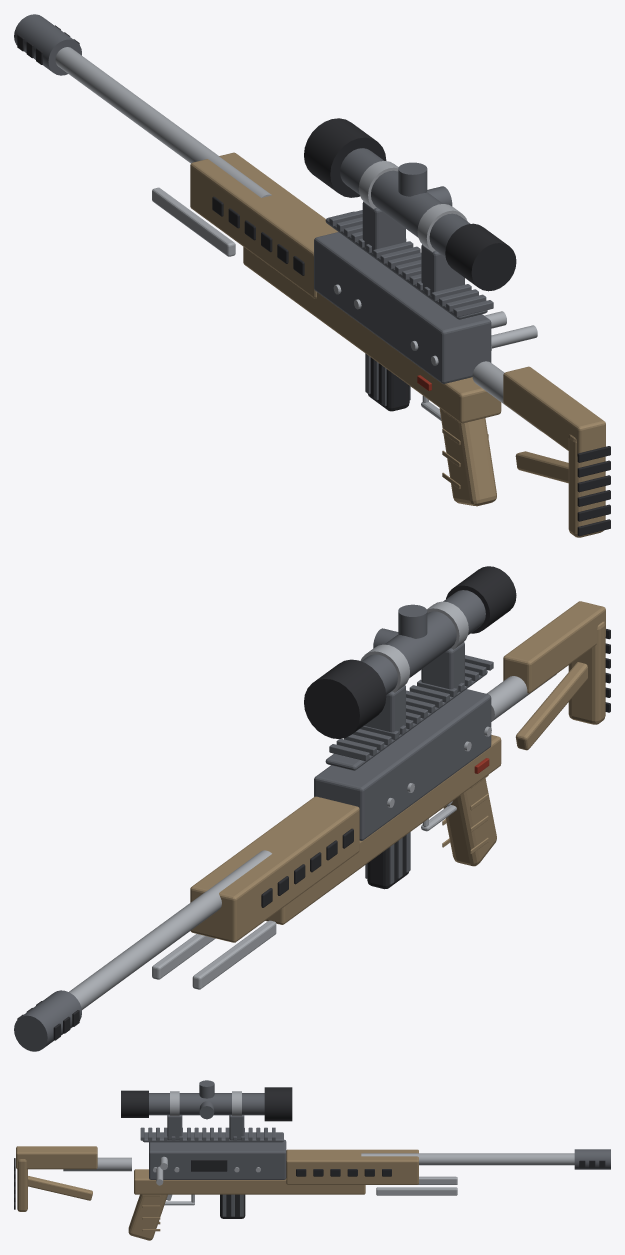
3 views of the same model, one above another, from view 1: azimuth 30°, elevation 25°; view 2: azimuth 150°, elevation 25°; view 3: azimuth 270°, elevation 25° (orthographic). The views are drawn at different scales.
Parts seen in each view (by area): view 1: Precision receiver, Long forend, Chassis, Stock spine.002, Precision barrel, Scope tube, PistolGrip.002, Scope ocular, Scope objective, Muzzle brake, Stock butt.002, Folded bipod (+8 smaller); view 2: Precision receiver, Long forend, Chassis, Stock spine.002, Scope objective, Precision barrel, Scope tube, PistolGrip.002, Muzzle brake, Stock butt.002, Scope ocular, Stock lower brace.002 (+10 smaller); view 3: Precision receiver, Long forend, Chassis, Precision barrel, Scope tube, Stock spine.002, PistolGrip.002, Scope objective, Picatinny base.002, Scope ocular, Folded bipod.001, Stock lower brace.002 (+11 smaller).
Part boxes in pixels (bbox=[...]): Precision receiver: bbox=[314, 232, 491, 383]; Long forend: bbox=[190, 152, 337, 298]; Chassis: bbox=[243, 247, 501, 423]; Stock spine.002: bbox=[503, 366, 605, 456]; Precision barrel: bbox=[55, 47, 271, 197]; Scope tube: bbox=[340, 148, 470, 257]; PistolGrip.002: bbox=[439, 408, 496, 506]; Scope ocular: bbox=[445, 223, 516, 291]; Scope objective: bbox=[304, 118, 386, 197]; Muzzle brake: bbox=[14, 14, 81, 75]; Stock butt.002: bbox=[568, 434, 605, 537]; Folded bipod: bbox=[152, 187, 235, 256]; Precision receiver: bbox=[314, 689, 491, 840]; Long forend: bbox=[190, 796, 359, 942]; Chassis: bbox=[265, 735, 501, 924]; Stock spine.002: bbox=[503, 601, 605, 693]; Scope objective: bbox=[304, 659, 386, 738]; Precision barrel: bbox=[69, 850, 271, 1009]; Scope tube: bbox=[361, 590, 485, 694]; PistolGrip.002: bbox=[443, 778, 496, 866]; Muzzle brake: bbox=[14, 990, 81, 1051]; Stock butt.002: bbox=[568, 621, 605, 724]; Scope ocular: bbox=[446, 566, 516, 633]; Stock lower brace.002: bbox=[515, 662, 587, 750]; Precision receiver: bbox=[149, 1139, 286, 1179]; Long forend: bbox=[286, 1149, 418, 1184]; Chassis: bbox=[134, 1169, 365, 1194]; Precision barrel: bbox=[361, 1153, 574, 1165]; Scope tube: bbox=[149, 1093, 264, 1115]; Stock spine.002: bbox=[16, 1146, 97, 1169]; PistolGrip.002: bbox=[128, 1194, 167, 1240]; Scope objective: bbox=[264, 1087, 292, 1121]; Picatinny base.002: bbox=[143, 1132, 283, 1142]; Scope ocular: bbox=[121, 1090, 148, 1117]; Folded bipod.001: bbox=[376, 1187, 457, 1195]; Stock lower brace.002: bbox=[28, 1176, 92, 1200].
Bounding box in the file's own units: 15.35 × 39.86 × 139.
